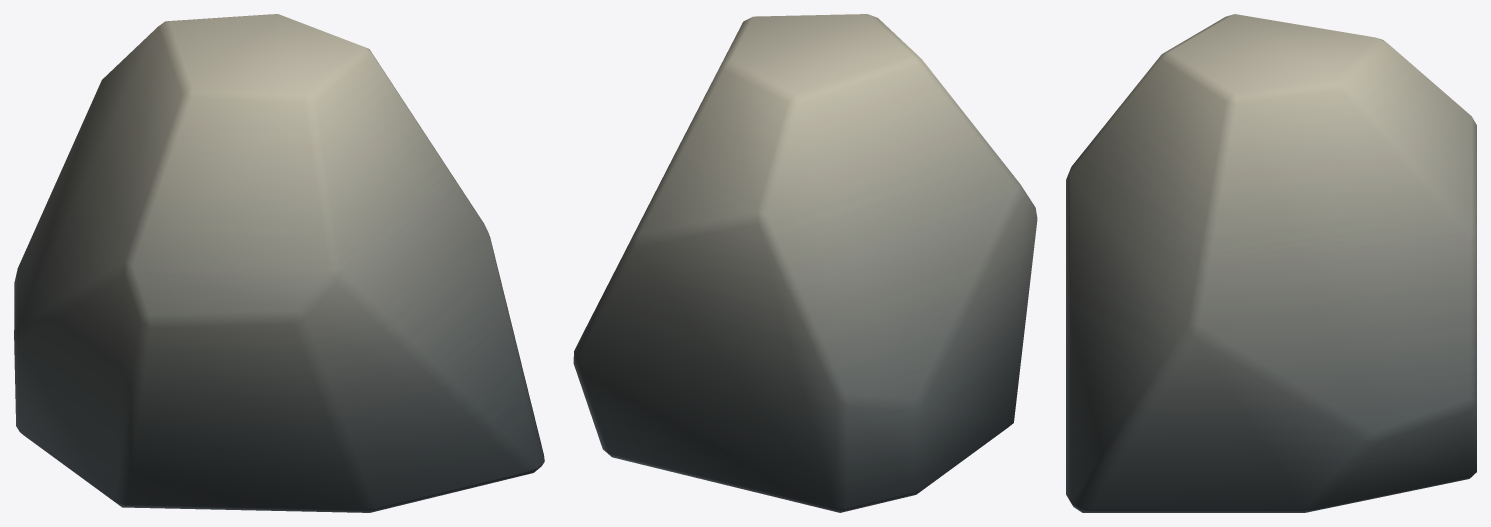
Rendered from Rocktest.fbx.
3 renders of one model, left to right at view 1: azimuth 30°, elevation 25°; view 2: azimuth 150°, elevation 25°; view 3: azimuth 270°, elevation 25°, orthographic. The views are drawn at different scales.
Parts seen in each view (by area): view 1: RockTest; view 2: RockTest; view 3: RockTest.
Part boxes in pixels (x1,y1,x2,y2): RockTest: [14, 14, 544, 512]; RockTest: [573, 14, 1037, 512]; RockTest: [1066, 14, 1476, 512].
Bounding box in the file's own units: 198 × 198 × 198.
